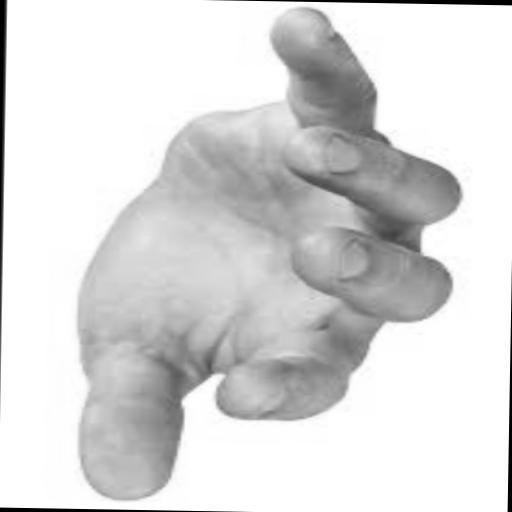Open_Palm: (33, 0, 500, 512)
